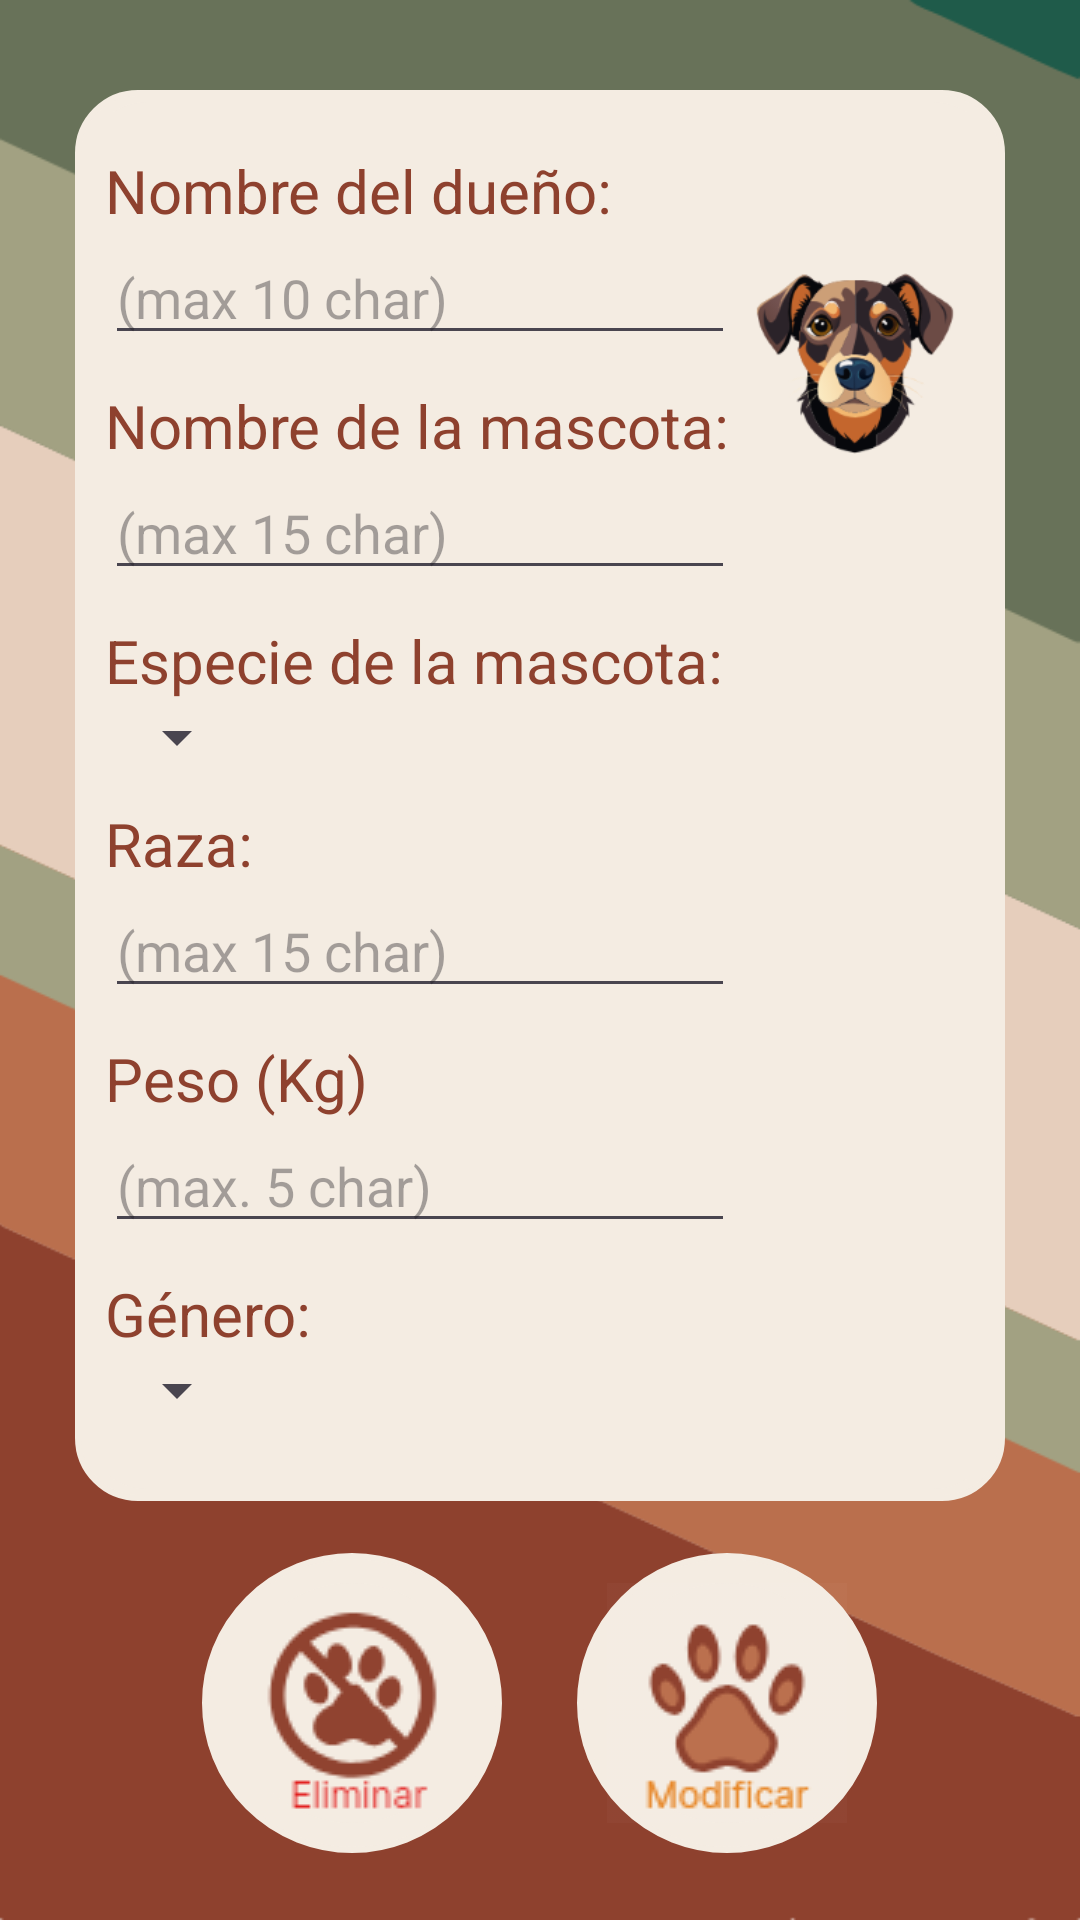

Icons on this 1080px×1920px Android screen, each with the point to tap as (x=x, y=y):
perrocara: (x=855, y=363)
